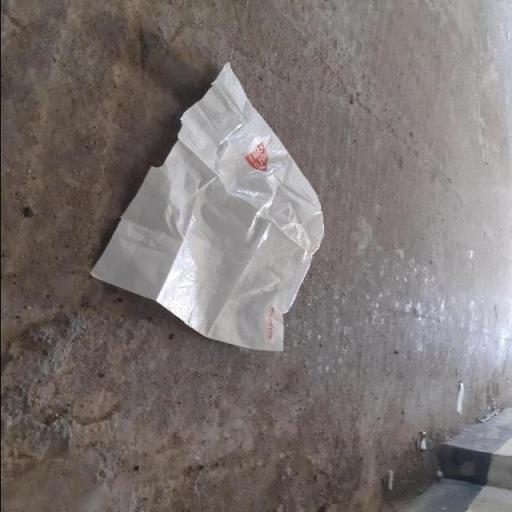plastic-bag: (86, 62, 326, 355)
